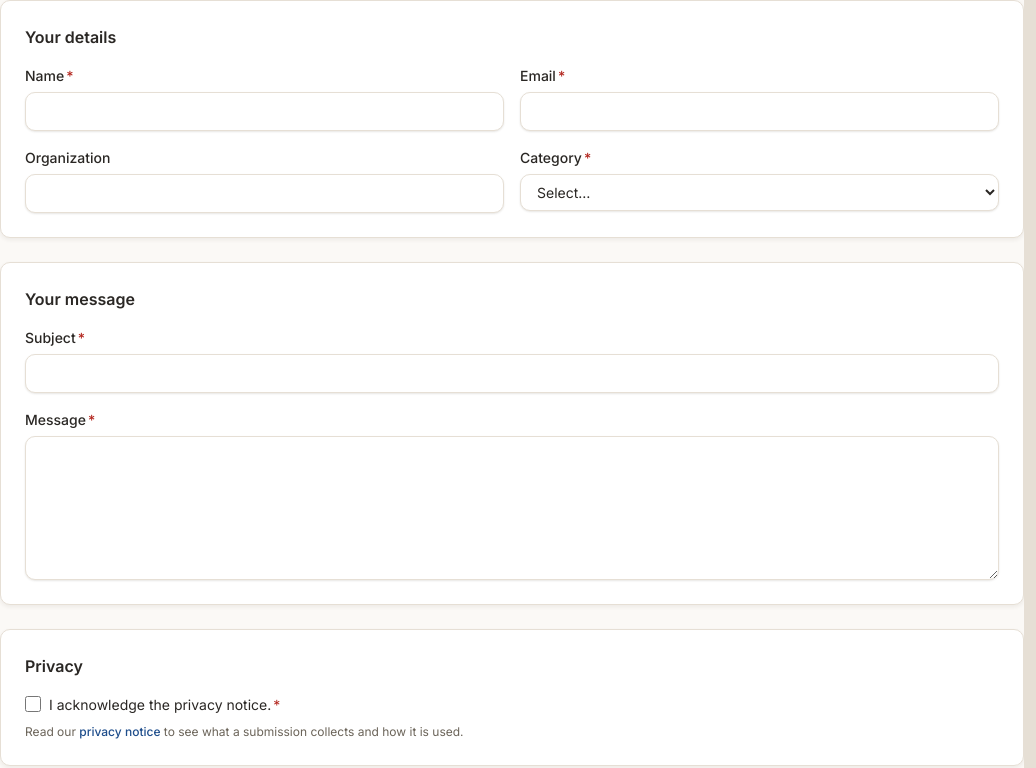
Scenario: ContactForm › FR-5's partition — every non-field-error outcome renders the SAME fixed constant › a 400 with an EMPTY details[] renders the fixed constant, never ApiError.message
Step 1. Type "Neema Mrema" into the field labelled "Name*" → [264, 112], box [25,92,504,131]
Step 2. Type "neema@khsc.co.tz" into the field labelled "Email*" → [760, 112], box [520,92,999,131]
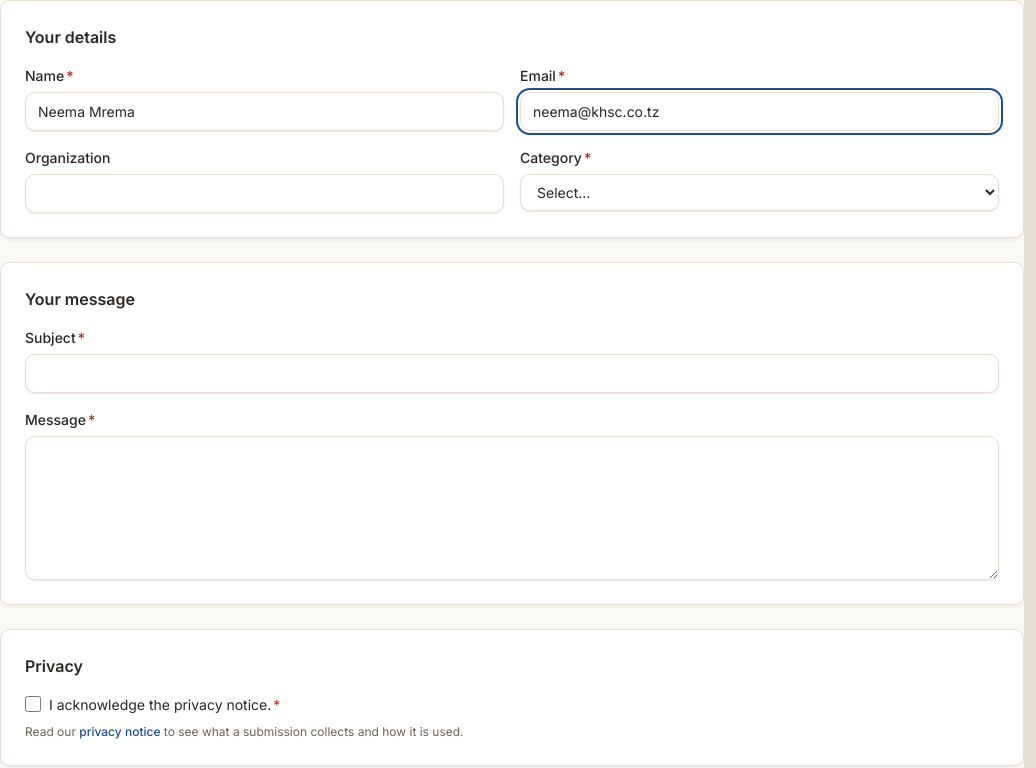
Step 3. Select "General inquiry" in the dropdown labelled "Category*" → [760, 192], box [520,174,999,211]
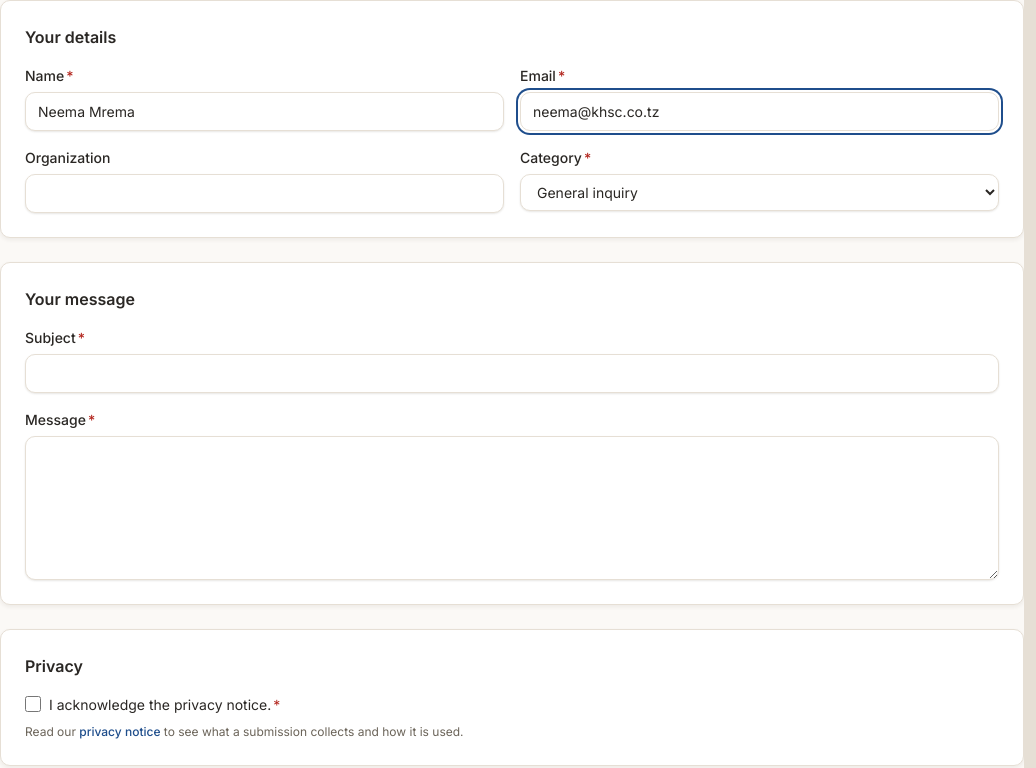
Step 4. Type "Question about listing" into the field labelled "Subject*" → [512, 374], box [25,354,999,393]
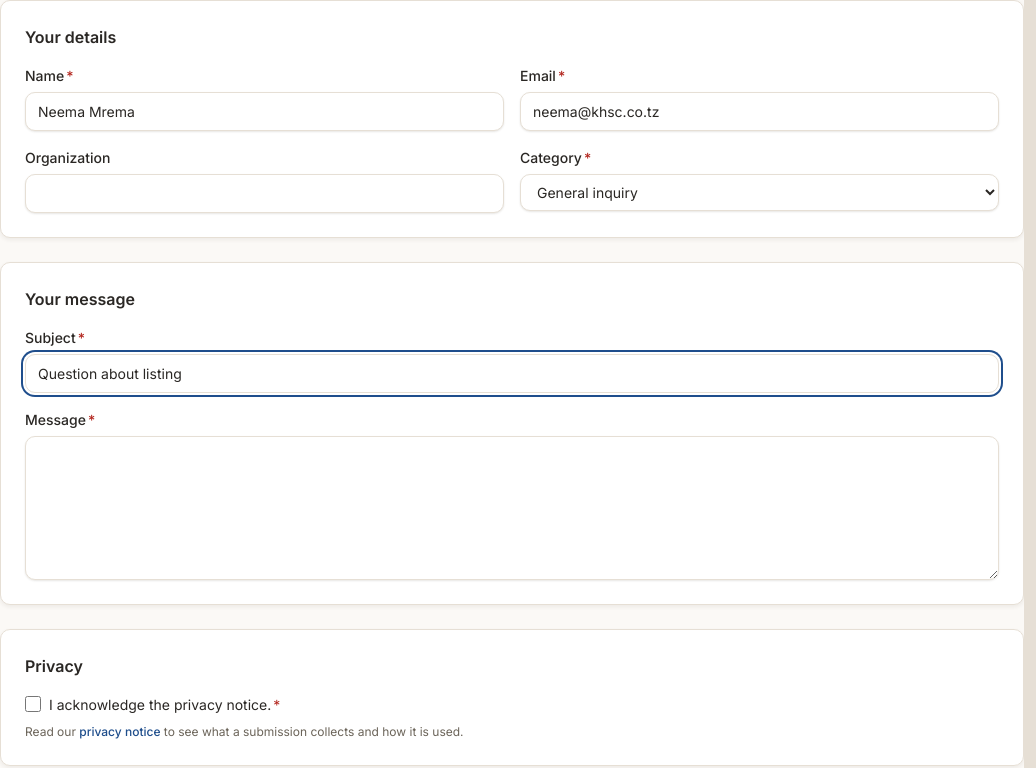
Step 5. Type "How do we get listed in the public directory?" into the text box labelled "Message*" → [512, 508], box [25,436,999,580]
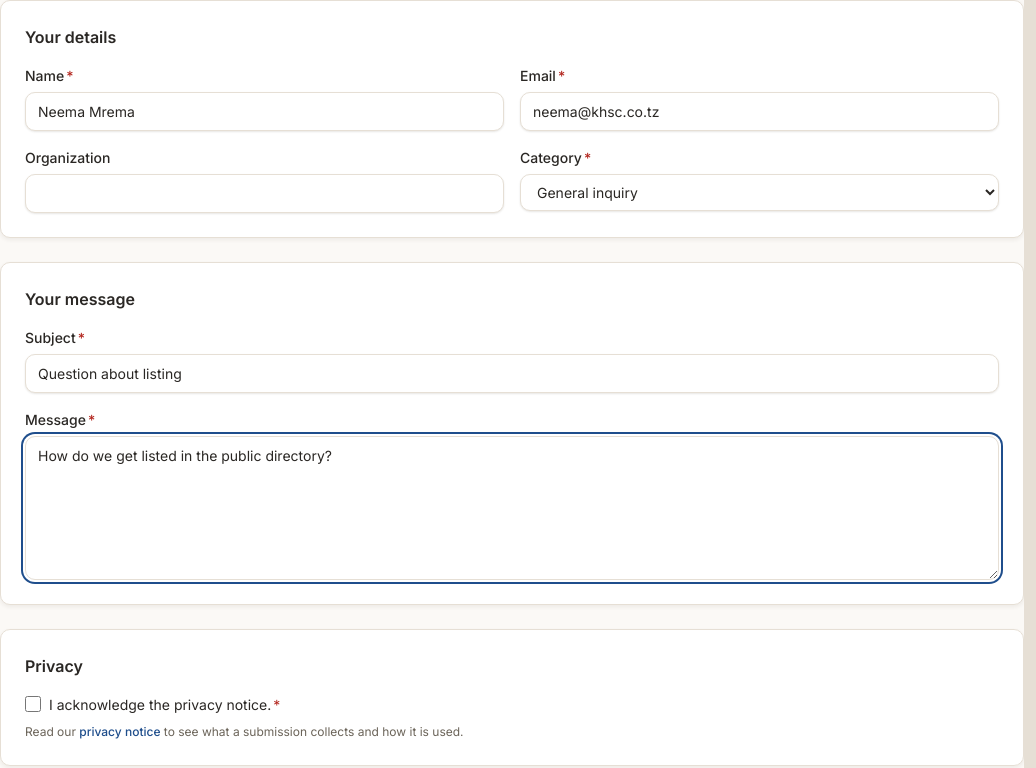
Step 6. Click the checkbox labelled "I acknowledge the privacy notice.*" → [33, 704], box [25,696,41,712]
(page scrolled)
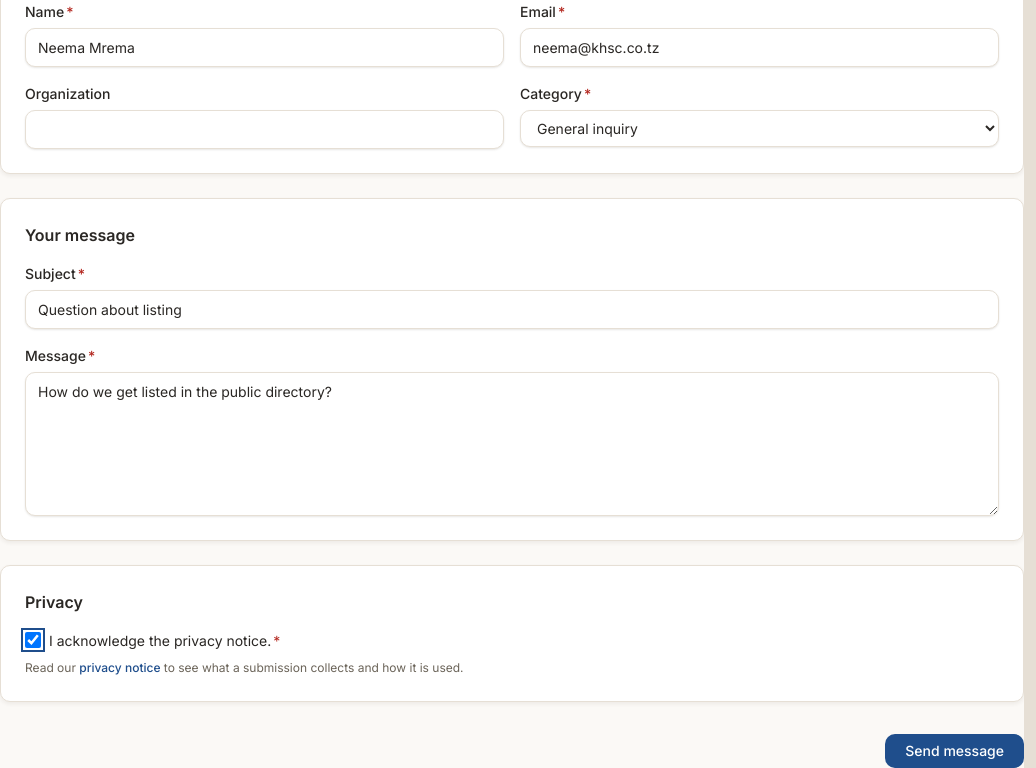
Step 7. Click the button "Send message" → [955, 751], box [885,734,1024,767]
(page scrolled)
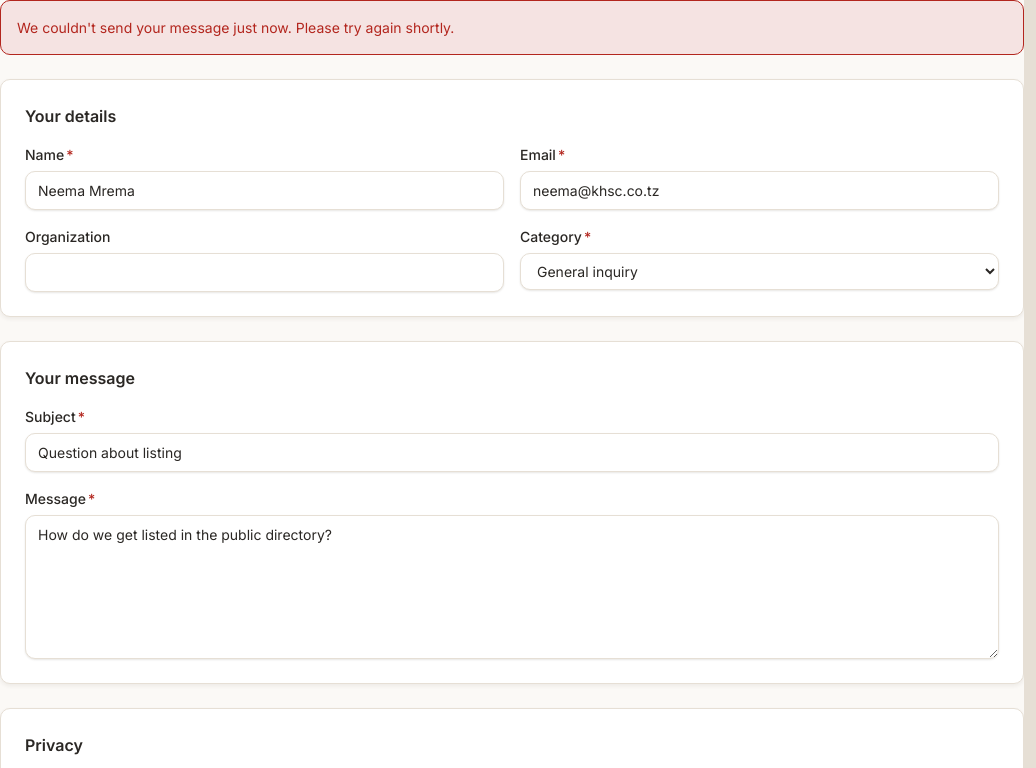
Check: the message with test id "submit-error" reads "We couldn't send your message just now. Please try again shortly.", box [17,19,454,36]
